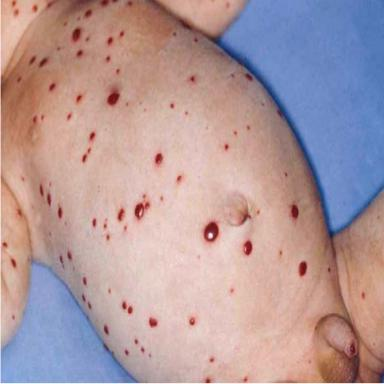Hemangiome: (204, 222, 218, 242), (107, 92, 119, 106), (135, 203, 144, 219), (122, 302, 133, 314), (299, 260, 307, 276), (244, 241, 252, 255), (155, 153, 163, 165), (118, 208, 125, 221), (149, 318, 157, 327), (59, 256, 65, 268), (47, 193, 52, 206), (103, 325, 109, 335), (11, 257, 17, 267), (89, 131, 95, 141), (58, 206, 62, 219), (189, 318, 195, 326), (49, 83, 55, 91), (67, 251, 72, 260), (77, 94, 82, 103), (145, 202, 150, 210), (82, 154, 87, 162), (40, 184, 43, 196), (92, 219, 96, 227), (83, 276, 87, 284), (103, 222, 107, 229), (125, 349, 129, 356), (82, 294, 85, 302), (3, 242, 7, 248), (88, 302, 91, 309), (134, 339, 138, 344), (141, 347, 145, 352), (107, 234, 109, 241)
